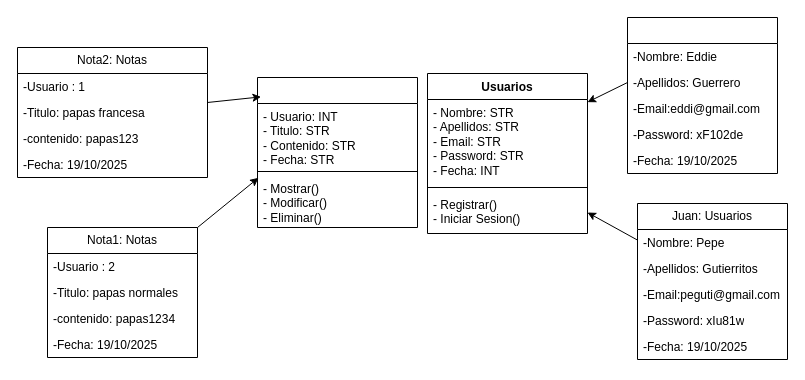
The diagram is 805 pixels wide and 380 high, and some of its shapes have lost their labels. Each missing label, with the box of its shape:
Notas: (256, 76, 418, 228)
Sofia: Usuarios: (626, 16, 778, 174)
